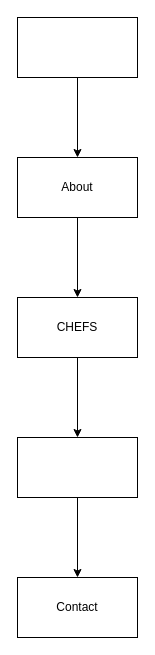
The diagram is 155 pixels wide and 655 high, and some of its shapes have lost their labels. The shapes that lost their labels are listed below. From the top down, each one's centre as x and y in pixels, then its label:
At point 77,47: "LAnding PAge".
At point 77,467: "Menu".
